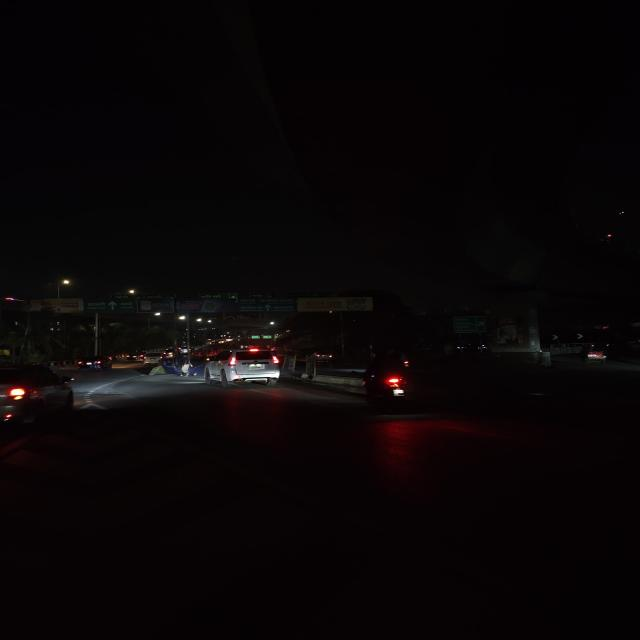car: (0, 361, 79, 431), (210, 348, 284, 386), (75, 356, 113, 373), (141, 351, 160, 365), (125, 349, 145, 361)
motorcycle: (353, 347, 421, 413)
